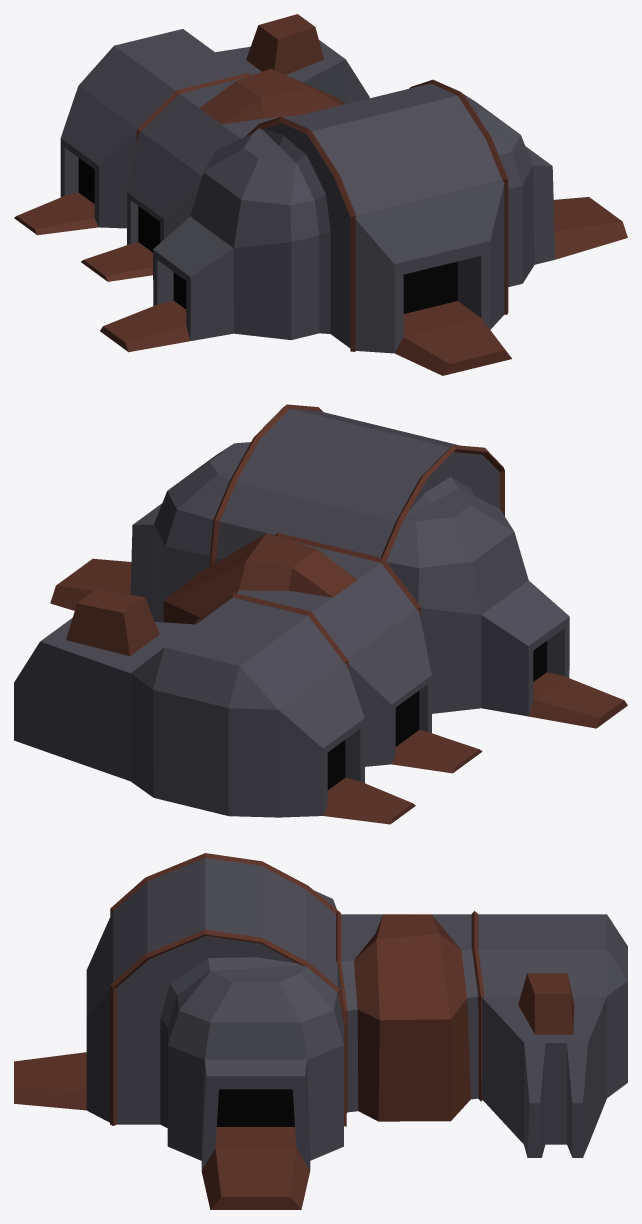
File: Sorter.fbx
3 renders of one model, top to bottom at view 1: azimuth 30°, elevation 25°; view 2: azimuth 150°, elevation 25°; view 3: azimuth 270°, elevation 25°, orthographic. The views are drawn at different scales.
Parts seen in each view (by area): view 1: MainCorpus, Tier2Corpus, Tier1Corpus; view 2: MainCorpus, Tier2Corpus, Tier1Corpus; view 3: MainCorpus, Tier2Corpus, Tier1Corpus.
Part boxes in pixels (x1,y1,x2,y2): MainCorpus: (100, 79, 627, 375); Tier2Corpus: (14, 14, 369, 235); Tier1Corpus: (81, 68, 345, 281); MainCorpus: (50, 404, 627, 728); Tier2Corpus: (14, 589, 415, 824); Tier1Corpus: (163, 532, 482, 773); MainCorpus: (14, 853, 347, 1209); Tier2Corpus: (471, 911, 627, 1157); Tier1Corpus: (336, 912, 478, 1121).
Bounding box in the file's own units: 664 × 247 × 696.
